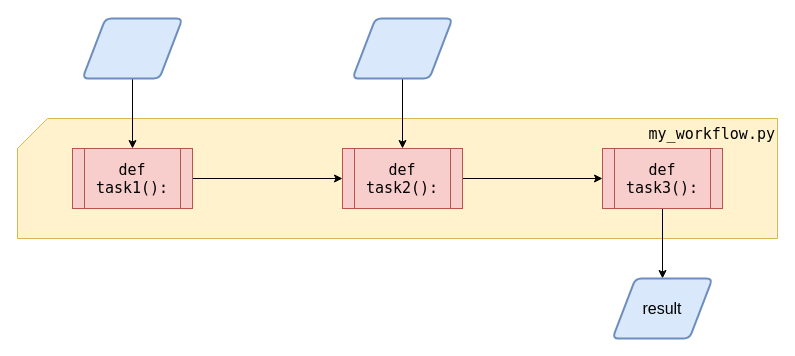
Some shapes in this 795 by 356 pixel diagram are drawn without their labels. The shapes that lost their labels are listed below. From the top down, each one's centre as x and y in pixels, then its label:
point (132, 48): input 1
point (402, 48): input 2
